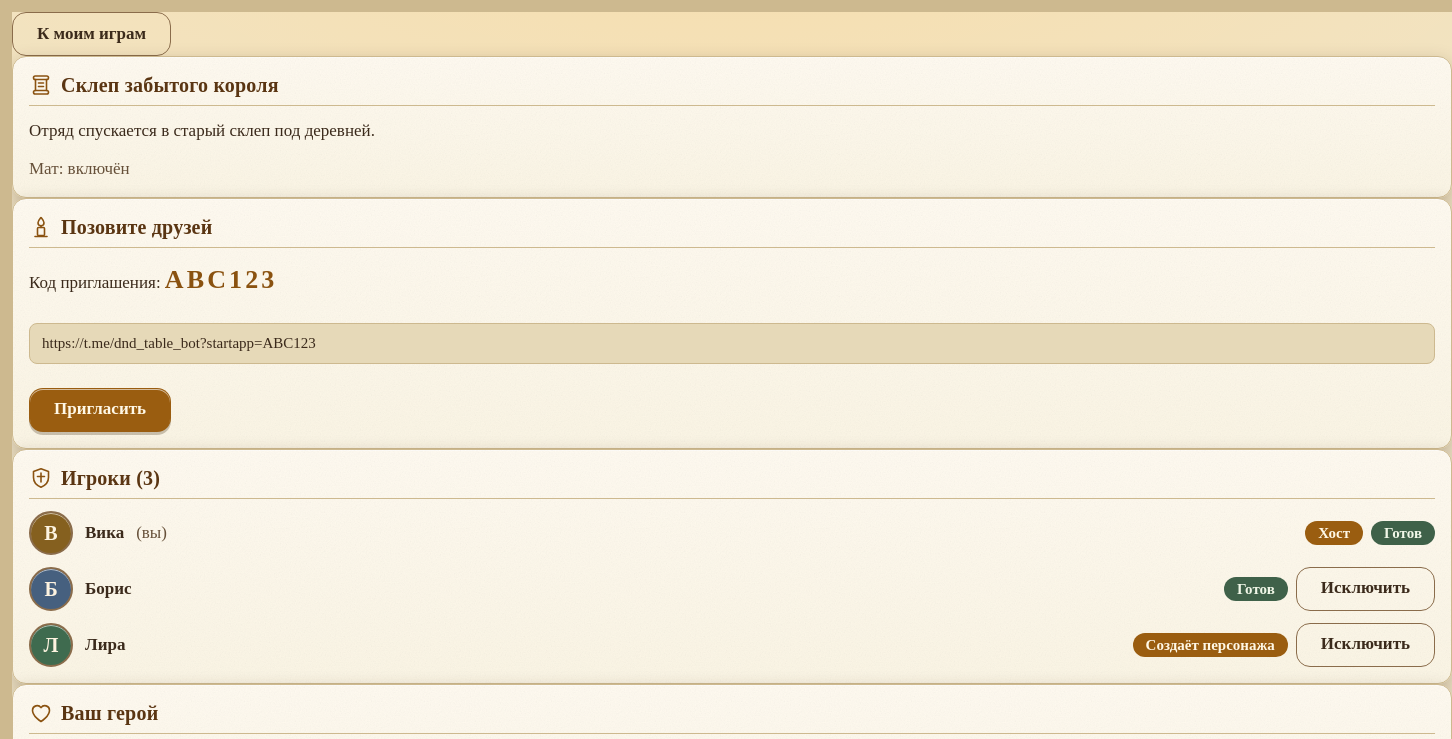
Scenario: «Пригласить» — только хост › нажатие копирует ссылку и подтверждает это
Expected: the text "https://t.me/dnd_table_bot?startapp=ABC123" is shown, x1=29 y1=323 x2=1435 y2=364
Click the button "Пригласить" at (100, 410), box x1=29 y1=388 x2=171 y2=432
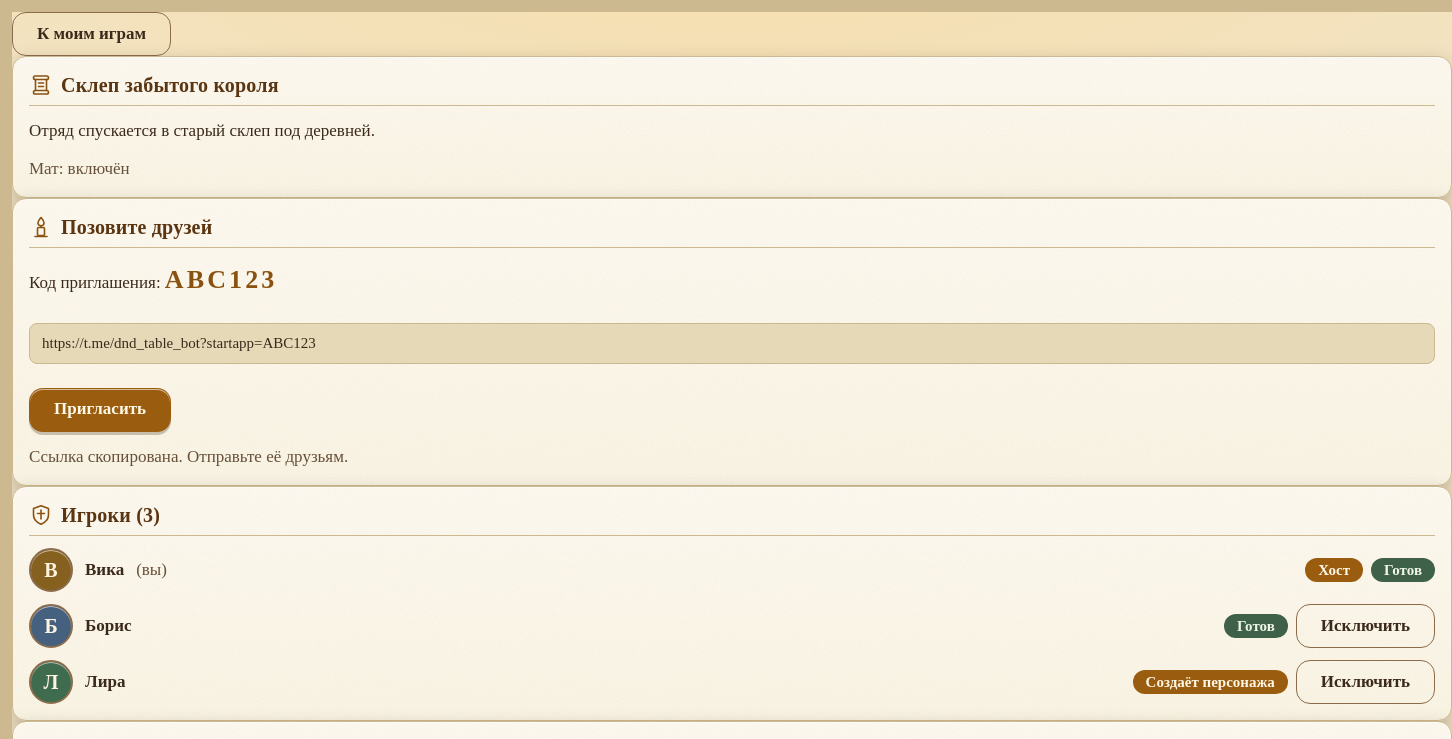
Now the message shows "Ссылка скопирована", box x1=29 y1=446 x2=348 y2=466
